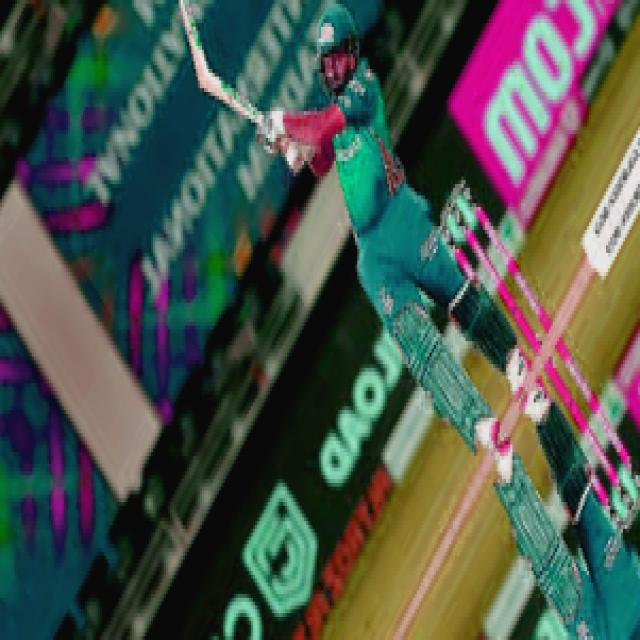toe: (200, 75, 230, 102)
